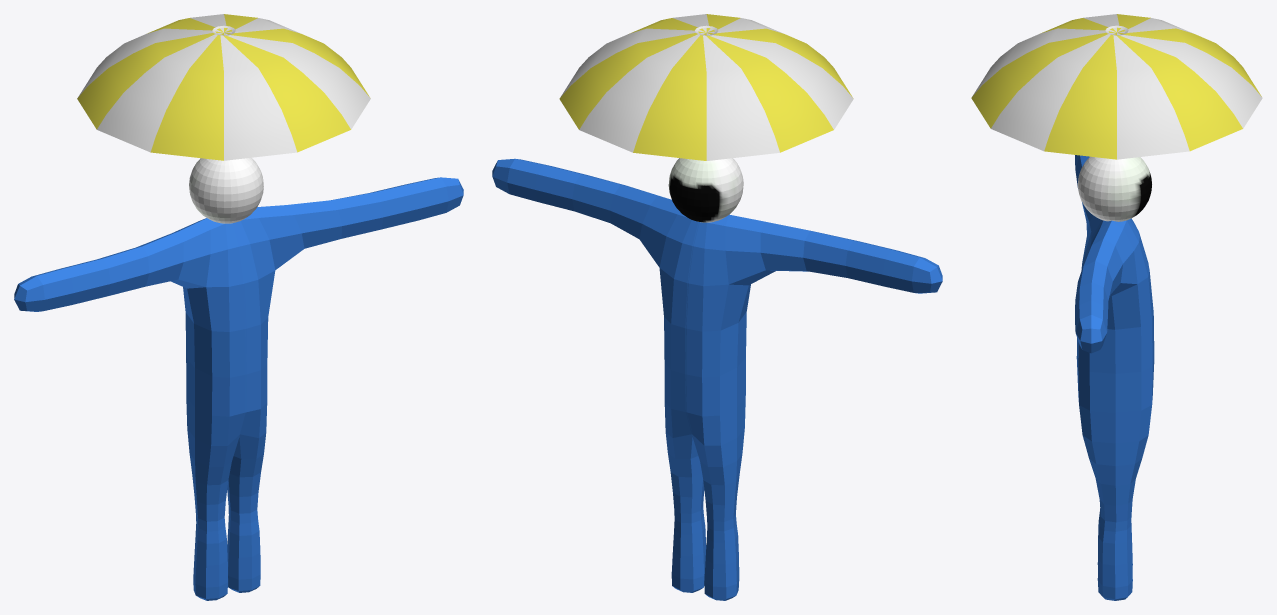
The model's file is ChlopSteam.fbx.
The picture shows the model from 3 angles, left to right: view 1: azimuth 30°, elevation 25°; view 2: azimuth 150°, elevation 25°; view 3: azimuth 270°, elevation 25°; orthographic projection.
Parts seen in each view (by area): view 1: Cube, Sphere.001, Sphere; view 2: Cube, Sphere.001, Sphere; view 3: Sphere.001, Cube, Sphere.
Boxes of the visible parts, x1,y1,x2,y2 form: Cube: (14,177,463,600); Sphere.001: (77,14,370,160); Sphere: (189,157,263,223); Cube: (492,158,942,600); Sphere.001: (559,14,853,160); Sphere: (668,158,743,222); Sphere.001: (971,14,1262,159); Cube: (1075,155,1154,600); Sphere: (1077,156,1151,221).
Size of the model in its own units: 1328 by 1585 by 751.
